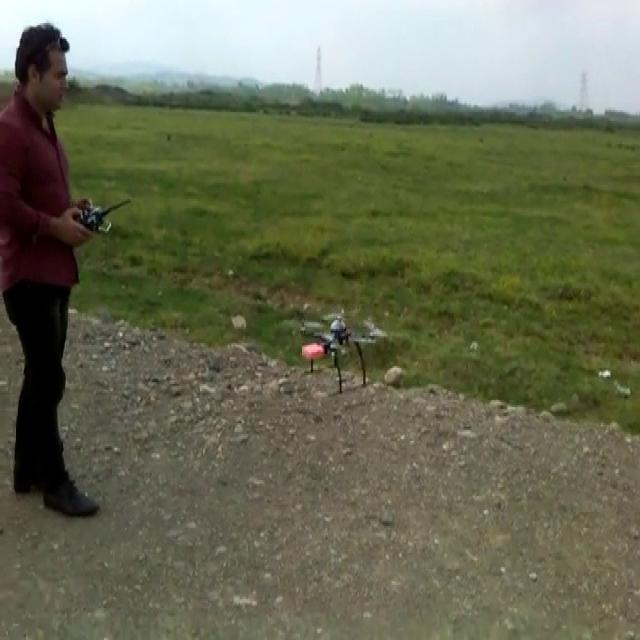drone: (297, 311, 386, 393)
